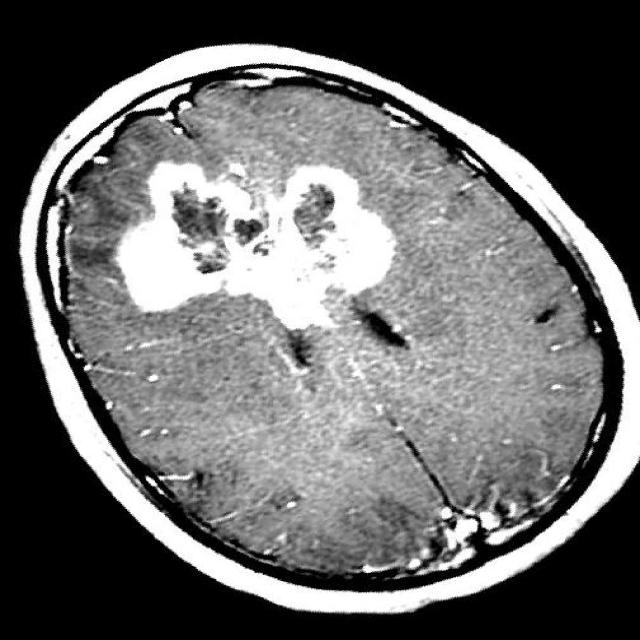Tumor-Cell: (143, 159, 385, 323)
